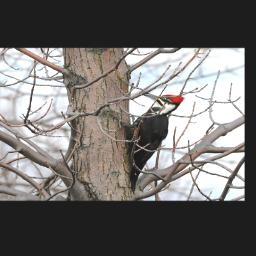Woodpecker: (122, 91, 185, 197)
